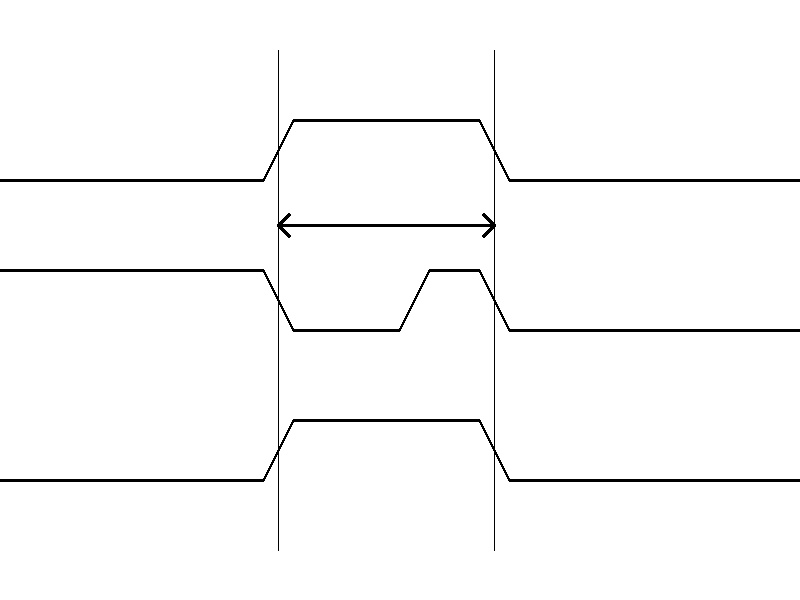double_arrow: (278, 210, 494, 240)
